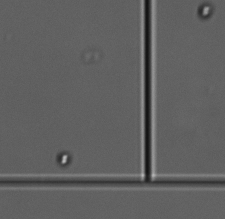Living Cell: (196, 4, 212, 18), (57, 152, 72, 166)
